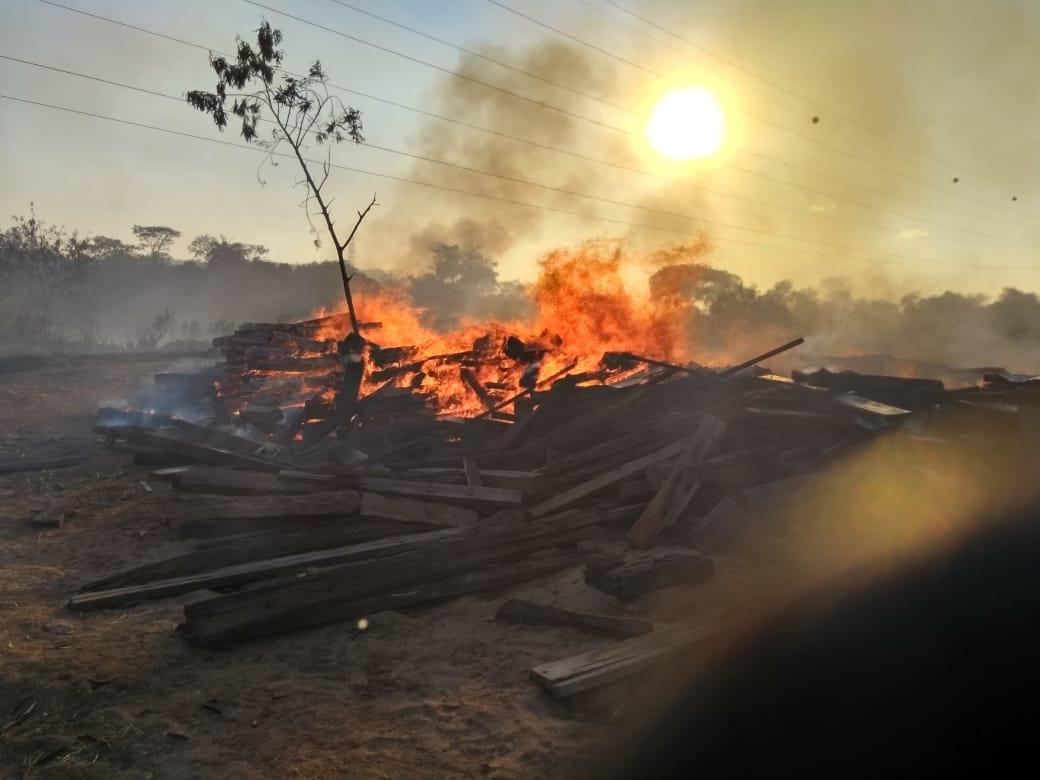Fire: (255, 242, 699, 409)
